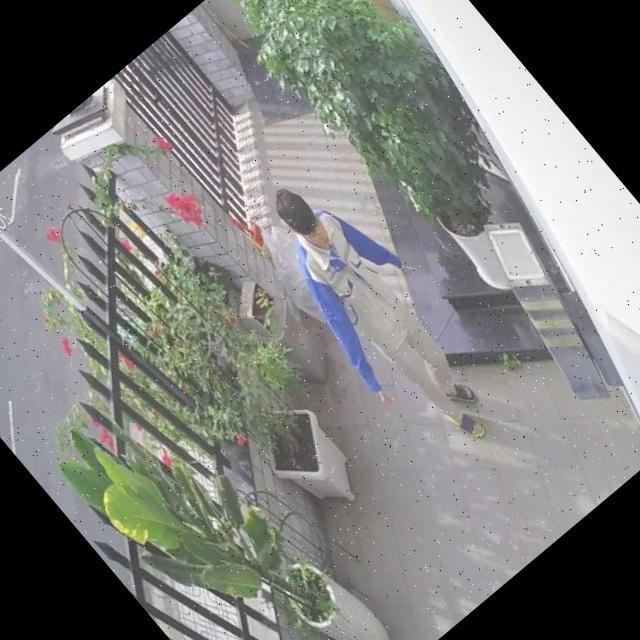person: (234, 156, 520, 470)
